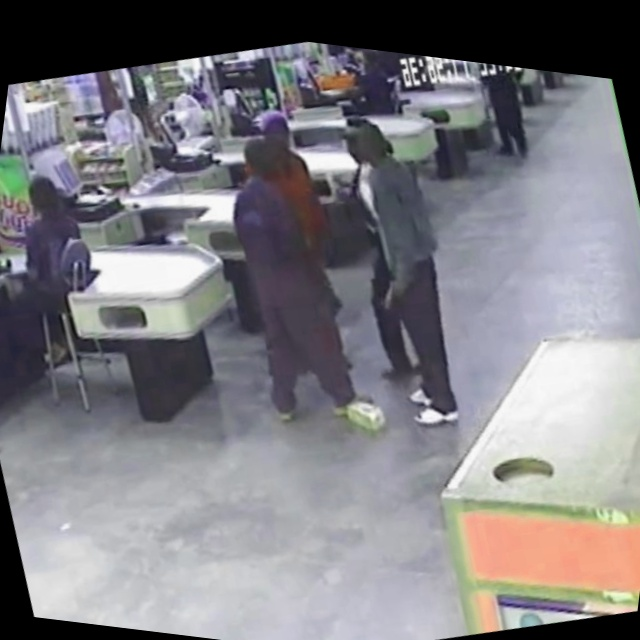gun: (365, 271, 412, 318)
